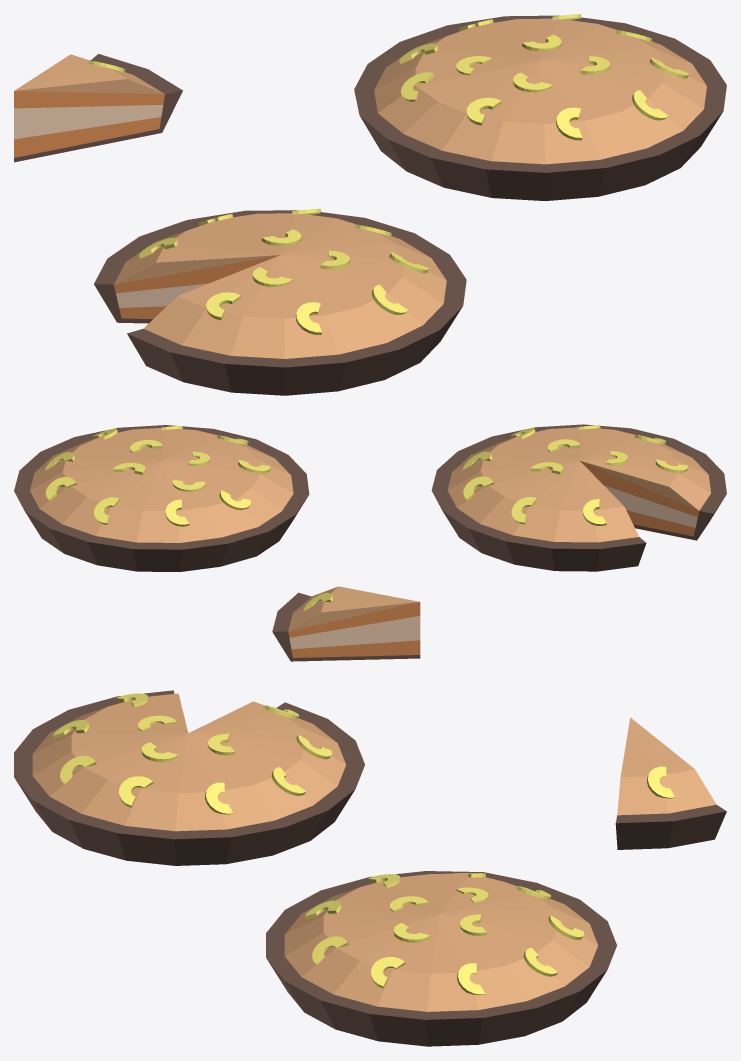
The model's file is pie2.fbx.
3 renders of one model, top to bottom at view 1: azimuth 30°, elevation 25°; view 2: azimuth 150°, elevation 25°; view 3: azimuth 270°, elevation 25°, orthographic. The views are drawn at different scales.
Parts seen in each view (by area): view 1: full_pie, pie_without_piece, piece; view 2: full_pie, pie_without_piece, piece; view 3: full_pie, pie_without_piece, piece.
Part boxes in pixels (x1=…): full_pie: x1=354, y1=14, x2=726, y2=201; pie_without_piece: x1=94, y1=208, x2=466, y2=395; piece: x1=14, y1=54, x2=182, y2=162; full_pie: x1=14, y1=425, x2=309, y2=571; pie_without_piece: x1=431, y1=424, x2=726, y2=571; piece: x1=272, y1=586, x2=420, y2=661; full_pie: x1=266, y1=871, x2=616, y2=1046; pie_without_piece: x1=14, y1=690, x2=364, y2=865; piece: x1=615, y1=717, x2=726, y2=849.
Bounding box in the file's own units: 88.92 × 8.7 × 81.09.
3 materials, 3 textured.
